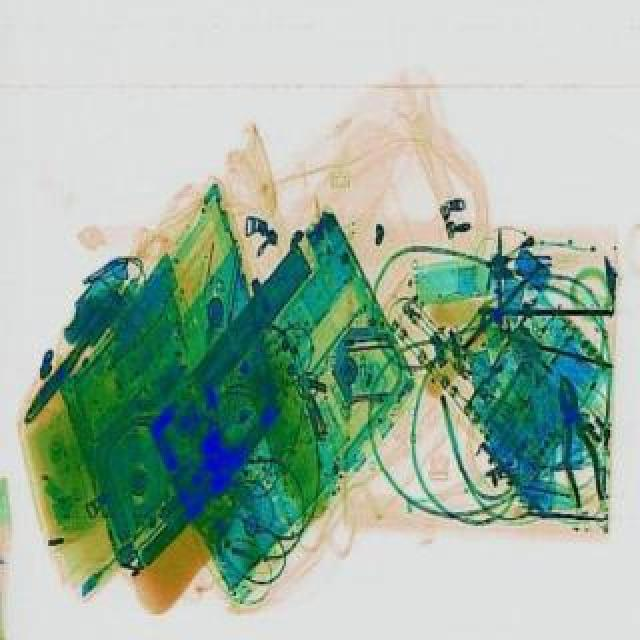wrench: (544, 370, 608, 508)
